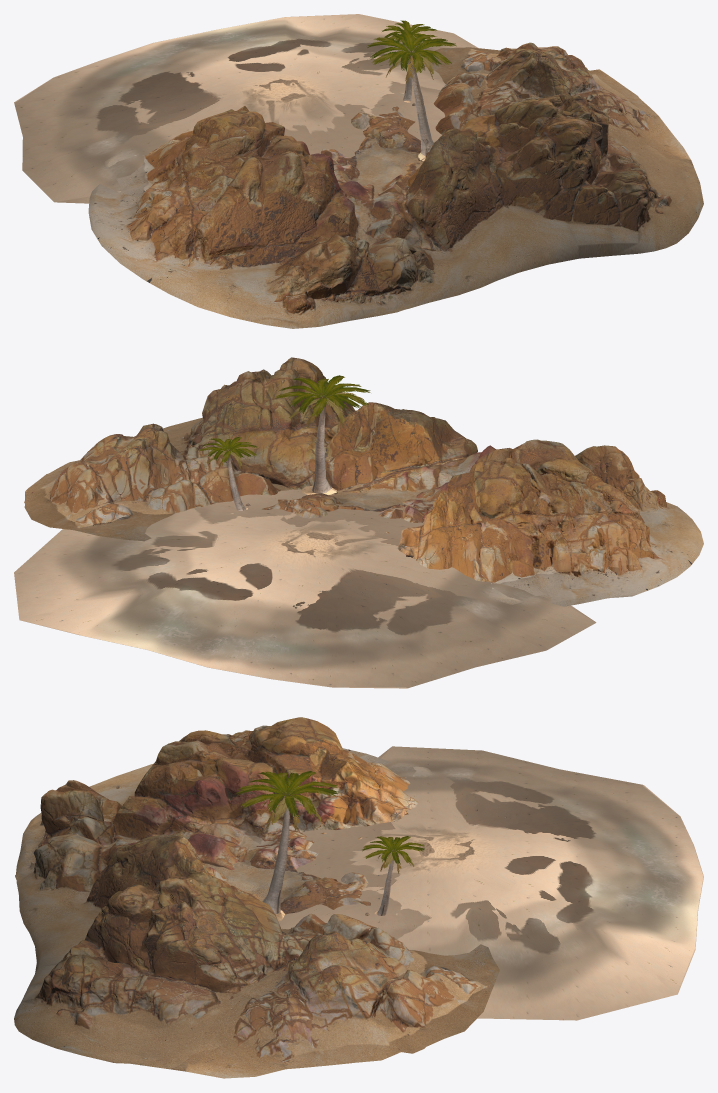
File: tropical.glb
The picture shows the model from 3 angles, top to bottom: view 1: azimuth 30°, elevation 25°; view 2: azimuth 150°, elevation 25°; view 3: azimuth 270°, elevation 25°; orthographic projection. The views are drawn at different scales.
Visible parts, largest first — view 1: Aset_rock_assembly_M_udxkec2fa_LOD2_43, Beach_44, Plane.024_46, Palme_45; view 2: Aset_rock_assembly_M_udxkec2fa_LOD2_43, Beach_44, Plane.024_46, Palme_45; view 3: Aset_rock_assembly_M_udxkec2fa_LOD2_43, Beach_44, Plane.024_46, Palme_45.
Boxes of the visible parts, box(x1,y1,x2,y2) form: Aset_rock_assembly_M_udxkec2fa_LOD2_43: box(88, 42, 703, 328); Beach_44: box(14, 14, 477, 203); Plane.024_46: box(367, 20, 456, 83); Palme_45: box(403, 51, 433, 161); Aset_rock_assembly_M_udxkec2fa_LOD2_43: box(24, 357, 703, 606); Beach_44: box(14, 489, 596, 688); Plane.024_46: box(199, 375, 370, 469); Palme_45: box(227, 398, 337, 510); Aset_rock_assembly_M_udxkec2fa_LOD2_43: box(14, 717, 499, 1078); Beach_44: box(278, 746, 703, 1020); Plane.024_46: box(234, 771, 424, 873); Palme_45: box(262, 796, 393, 921).
Bounding box in the file's own units: 35.34 × 8.85 × 33.29.
Materials: 4 (4 with a texture image).
